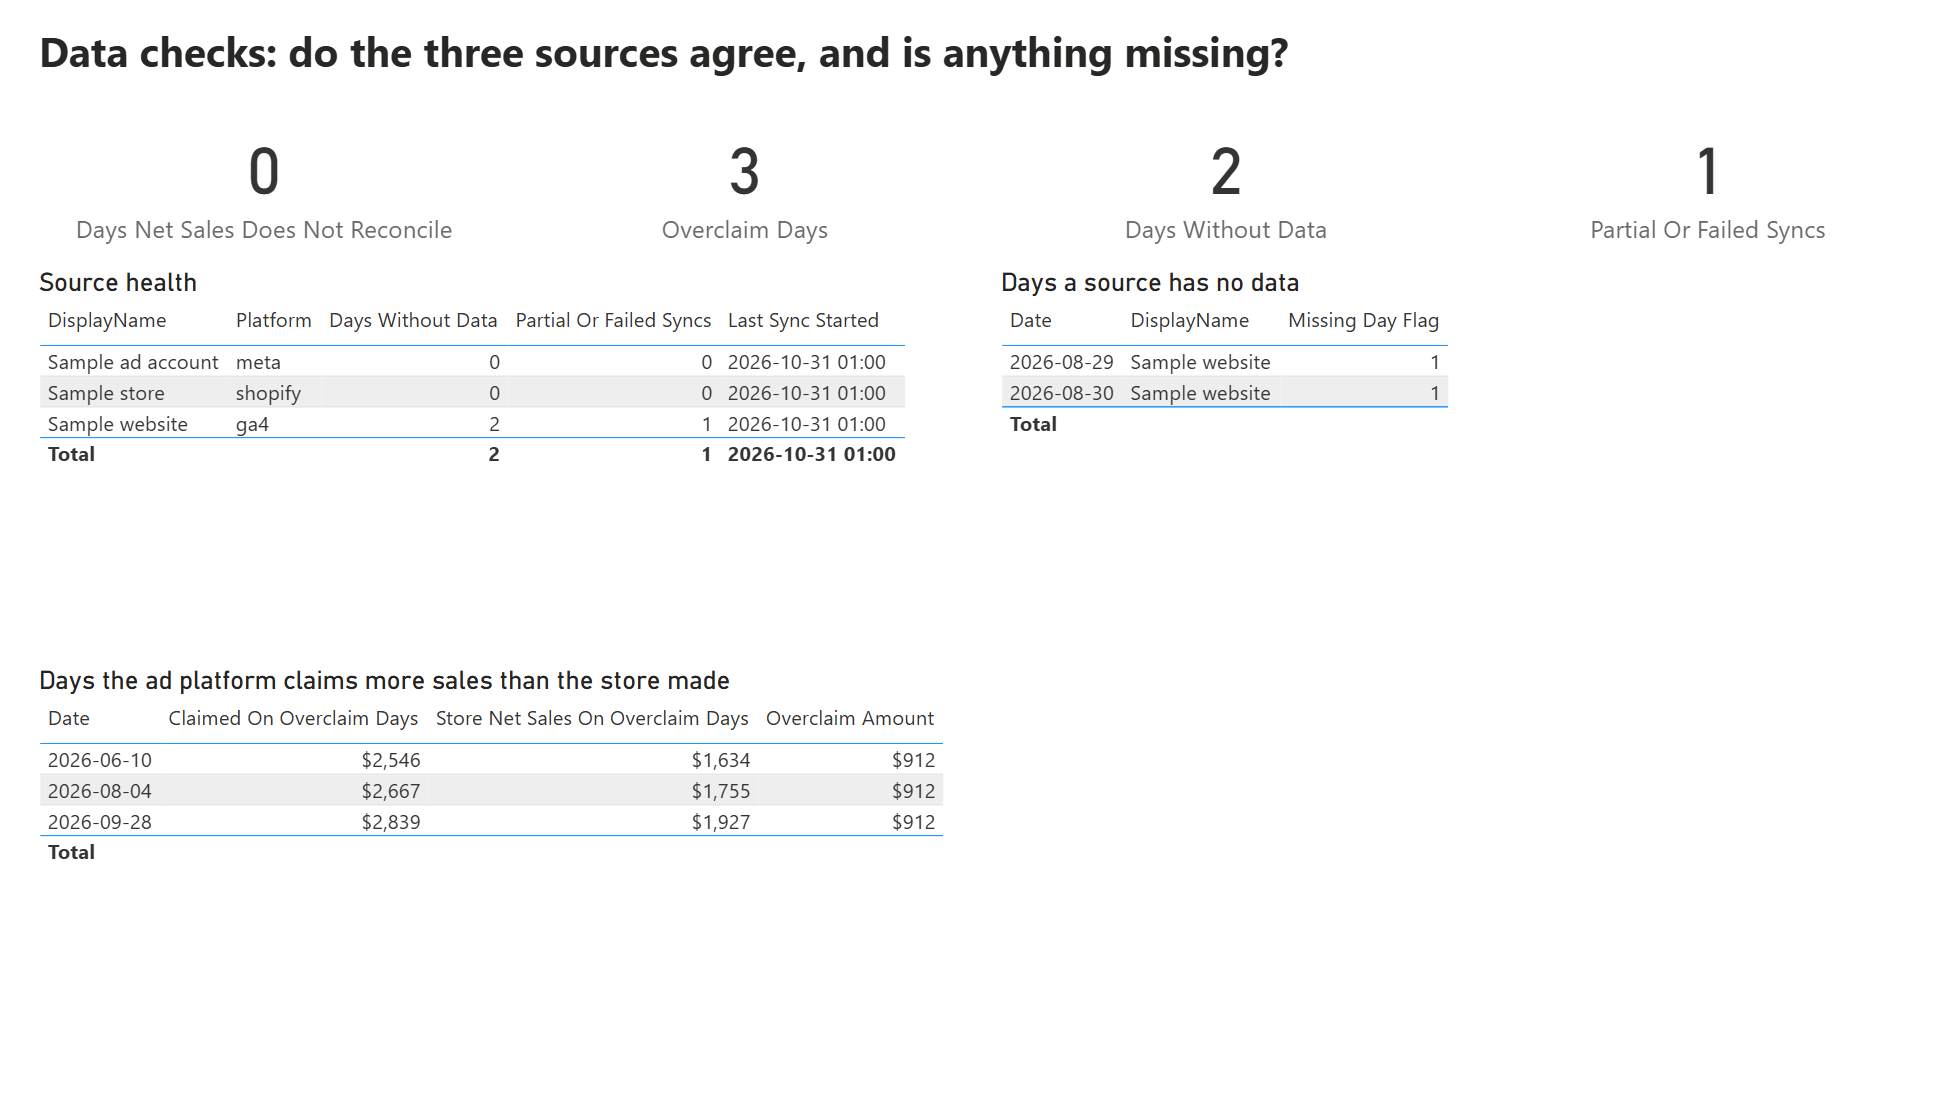

The page's visual inventory and layout, read from the dashboard file:
{"tool":"powerbi","page":{"name":"Data checks","canvas":[1280,720],"ordinal":1},"visuals":[{"type":"textbox","box":[20,10,1240,50],"z":11},{"type":"card","fields":{"Values":["Snapshot.Days Net Sales Does Not Reconcile"]},"box":[20,70,305,95],"z":12},{"type":"card","fields":{"Values":["Snapshot.Overclaim Days"]},"box":[335,70,305,95],"z":13},{"type":"card","fields":{"Values":["Snapshot.Days Without Data"]},"box":[650,70,305,95],"z":14},{"type":"card","fields":{"Values":["Snapshot.Partial Or Failed Syncs"]},"box":[965,70,305,95],"z":15},{"type":"tableEx","title":"Source health","fields":{"Values":["Connection.DisplayName","Connection.Platform","Snapshot.Days Without Data","Snapshot.Partial Or Failed Syncs","Snapshot.Last Sync Started"]},"box":[20,175,620,250],"z":16},{"type":"tableEx","title":"Days a source has no data","fields":{"Values":["Date.Date","Connection.DisplayName","Snapshot.Missing Day Flag"]},"box":[650,175,610,250],"z":17},{"type":"tableEx","title":"Days the ad platform claims more sales than the store made","fields":{"Values":["Date.Date","Snapshot.Claimed On Overclaim Days","Snapshot.Store Net Sales On Overclaim Days","Snapshot.Overclaim Amount"]},"box":[20,435,1240,275],"z":18}]}

Visuals, with their boxes in screenshot pixels (x1, y1, x2, y2), scaled from the page's 1280x720 canvas onto the 1956x1100 screenshot:
textbox: select_region(31, 15, 1925, 92)
card - Snapshot.Days Net Sales Does Not Reconcile: select_region(31, 107, 497, 252)
card - Snapshot.Overclaim Days: select_region(512, 107, 978, 252)
card - Snapshot.Days Without Data: select_region(993, 107, 1459, 252)
card - Snapshot.Partial Or Failed Syncs: select_region(1475, 107, 1941, 252)
"Source health" tableEx: select_region(31, 267, 978, 649)
"Days a source has no data" tableEx: select_region(993, 267, 1925, 649)
"Days the ad platform claims more sales than the store made" tableEx: select_region(31, 665, 1925, 1085)
